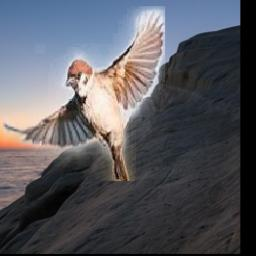Sparrow: (3, 6, 165, 181)
